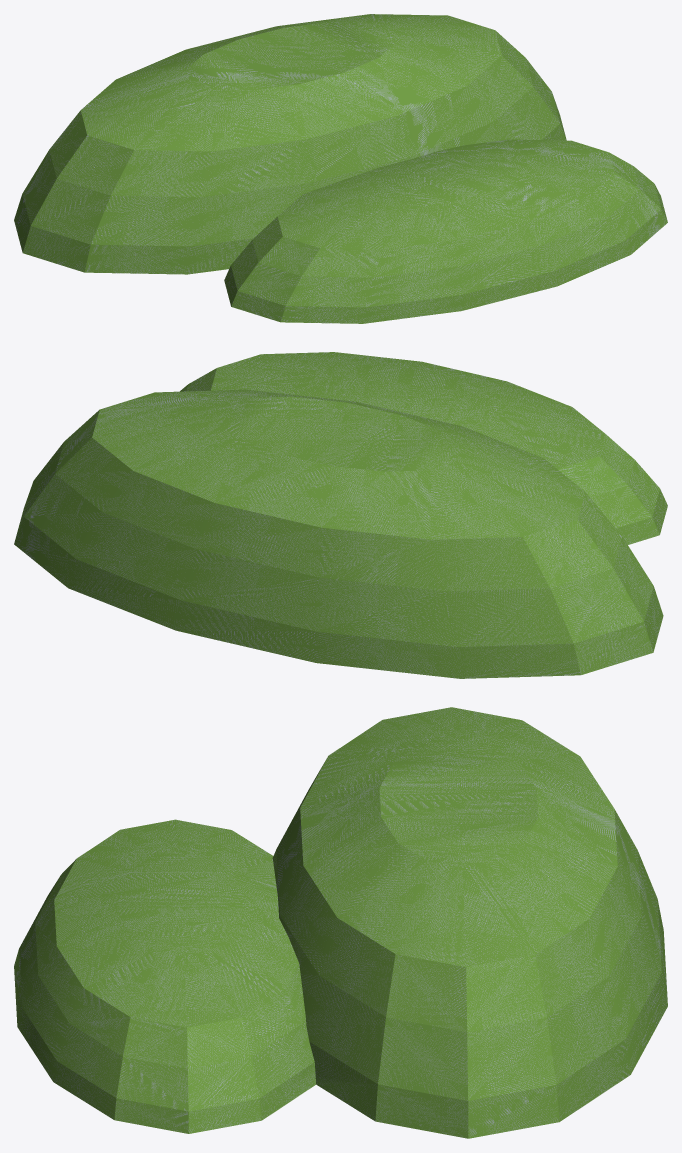
The model's file is Hills_03.fbx.
3 renders of one model, top to bottom at view 1: azimuth 30°, elevation 25°; view 2: azimuth 150°, elevation 25°; view 3: azimuth 270°, elevation 25°, orthographic. The views are drawn at different scales.
Parts seen in each view (by area): view 1: Model; view 2: Model; view 3: Model.
Part boxes in pixels (left/top/right/bottom): Model: left=14, top=14, right=667, bottom=323; Model: left=14, top=352, right=667, bottom=678; Model: left=14, top=707, right=667, bottom=1138.
Bounding box in the file's own units: 4036 × 906 × 3258.
